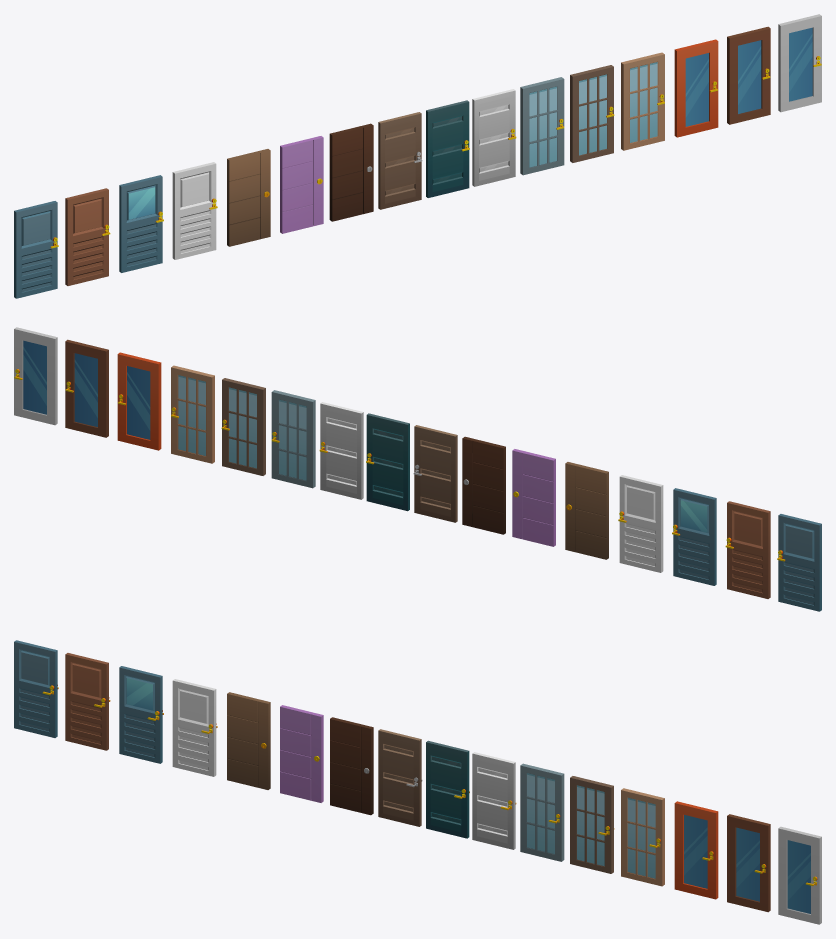
File: Door_pack.fbx
The picture shows the model from 3 angles, top to bottom: view 1: azimuth 30°, elevation 25°; view 2: azimuth 150°, elevation 25°; view 3: azimuth 330°, elevation 25°; orthographic projection.
Visible parts, largest first — view 1: Door_05, Door_12, Door_03, Door_04, Door_01, Door_07, Door_02, Door_06, Door_13, Door_08, Door_10, Door_09 (+4 smaller); view 2: Door_05, Door_12, Door_04, Door_01, Door_07, Door_02, Door_06, Door_10, Door_13, Door_03, Door_08, Door_11 (+4 smaller); view 3: Door_05, Door_12, Door_04, Door_01, Door_07, Door_02, Door_06, Door_13, Door_03, Door_08, Door_10, Door_09 (+4 smaller).
Part boxes in pixels (x1,y1,x2,y2): Door_05: [520, 77, 564, 175]; Door_12: [674, 39, 718, 137]; Door_03: [329, 123, 373, 221]; Door_04: [172, 162, 217, 259]; Door_01: [570, 65, 614, 162]; Door_07: [621, 52, 664, 150]; Door_02: [727, 26, 770, 124]; Door_06: [778, 14, 821, 112]; Door_13: [65, 188, 110, 285]; Door_08: [280, 136, 323, 233]; Door_10: [227, 149, 270, 246]; Door_09: [14, 201, 58, 298]; Door_05: [271, 390, 315, 488]; Door_12: [117, 352, 161, 450]; Door_04: [618, 475, 663, 572]; Door_01: [221, 378, 265, 475]; Door_07: [171, 365, 214, 463]; Door_02: [65, 339, 108, 437]; Door_06: [14, 327, 57, 425]; Door_10: [565, 462, 608, 559]; Door_13: [725, 501, 770, 598]; Door_03: [462, 436, 505, 534]; Door_08: [512, 449, 555, 546]; Door_11: [672, 488, 716, 585]; Door_05: [520, 763, 564, 861]; Door_12: [674, 801, 718, 899]; Door_04: [172, 679, 217, 776]; Door_01: [570, 776, 614, 873]; Door_07: [621, 788, 664, 886]; Door_02: [727, 814, 770, 912]; Door_06: [778, 826, 821, 924]; Door_13: [65, 653, 110, 750]; Door_03: [330, 717, 373, 815]; Door_08: [280, 705, 323, 802]; Door_10: [227, 692, 270, 789]; Door_09: [14, 640, 58, 737].
Size of the model in its own units: 56.92 by 5.83 by 1.08.
